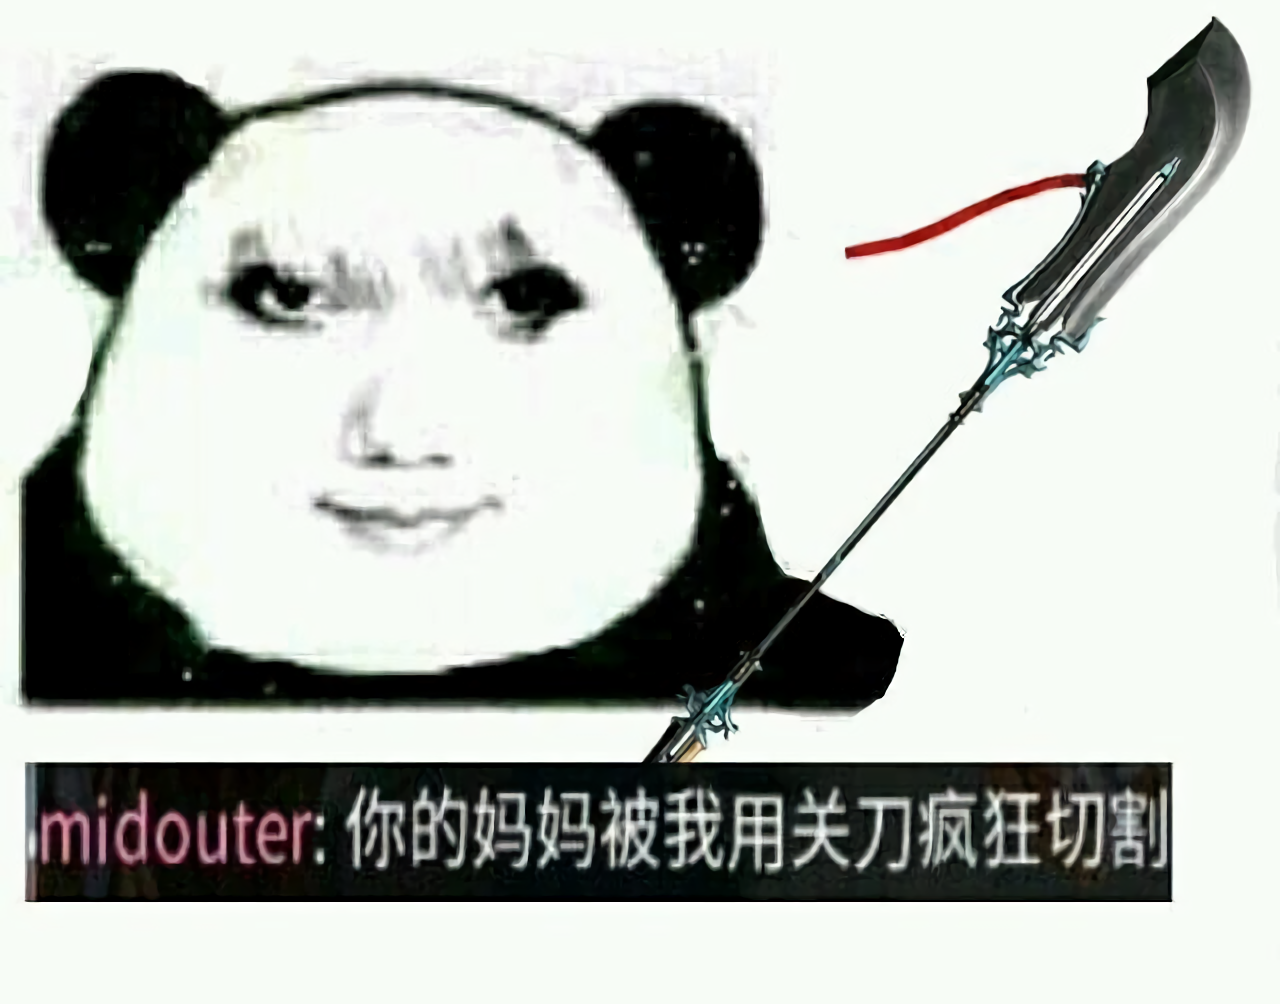dragon: (209, 213, 605, 572)
